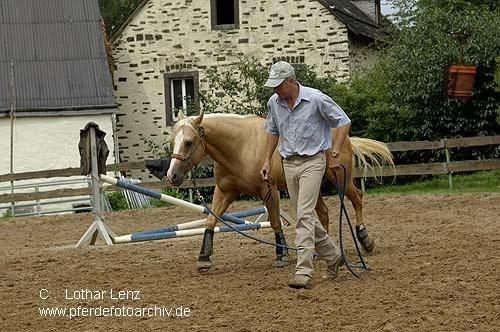tampered: (444, 29, 476, 99)
